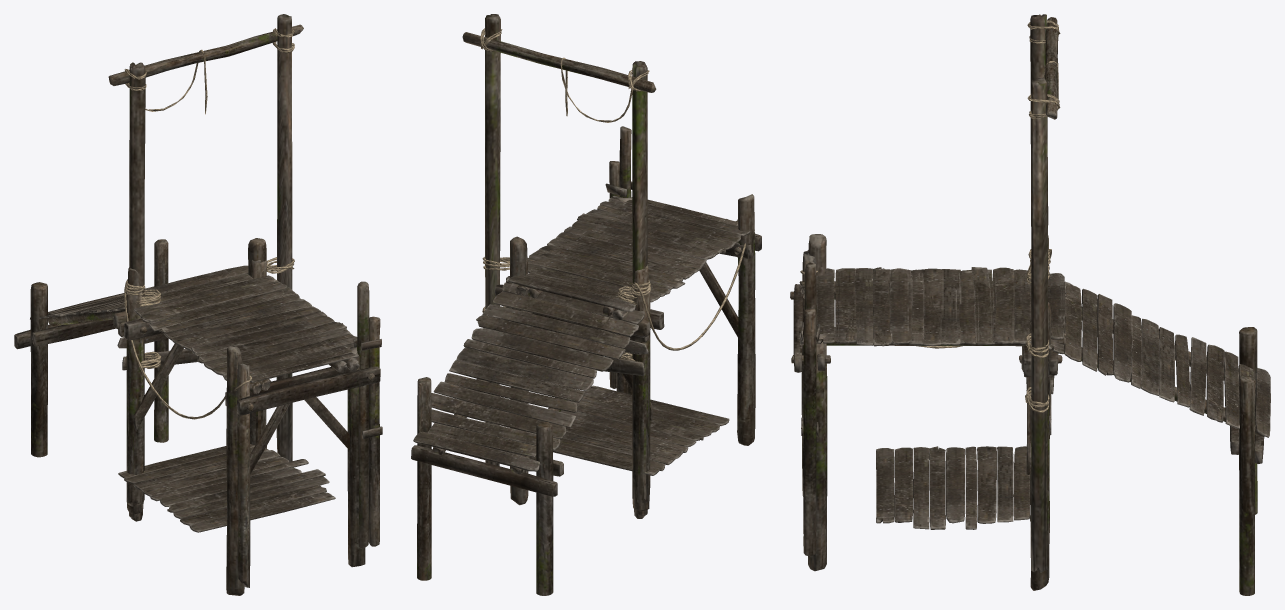
The model's file is pier_kit.83651f93b8.glb.
3 views of the same model, side by side, from view 1: azimuth 30°, elevation 25°; view 2: azimuth 150°, elevation 25°; view 3: azimuth 270°, elevation 25° (orthographic). The views are drawn at different scales.
Parts seen in each view (by area): view 1: pier_section_01, pier_section_05, pier_planks, pier_section_02, pier_section_03, pier_section_04, pier_poles; view 2: pier_section_04, pier_section_01, pier_section_05, pier_section_03, pier_planks, pier_section_02, pier_poles; view 3: pier_section_04, pier_section_01, pier_planks, pier_section_05, pier_section_03, pier_section_02, pier_poles.
Part boxes in pixels (<box>): pier_section_01: <box>118,260,382,587</box>; pier_section_05: <box>108,14,303,505</box>; pier_planks: <box>118,444,335,532</box>; pier_section_02: <box>113,261,357,503</box>; pier_section_03: <box>113,238,357,506</box>; pier_section_04: <box>14,239,263,518</box>; pier_poles: <box>131,345,365,595</box>; pier_section_04: <box>411,257,648,595</box>; pier_section_01: <box>506,126,761,511</box>; pier_section_05: <box>462,14,656,466</box>; pier_section_03: <box>495,203,739,503</box>; pier_planks: <box>553,385,729,475</box>; pier_section_02: <box>497,202,739,505</box>; pier_poles: <box>616,194,755,518</box>; pier_section_04: <box>1030,282,1270,595</box>; pier_section_01: <box>790,235,1062,557</box>; pier_planks: <box>876,446,1030,529</box>; pier_section_05: <box>1025,14,1060,572</box>; pier_section_03: <box>826,267,1066,570</box>; pier_section_02: <box>802,259,1063,590</box>; pier_poles: <box>808,234,827,571</box>.
Bounding box in the file's own units: 3.09 × 7.51 × 6.21.
Materials: 2 (2 with a texture image).
